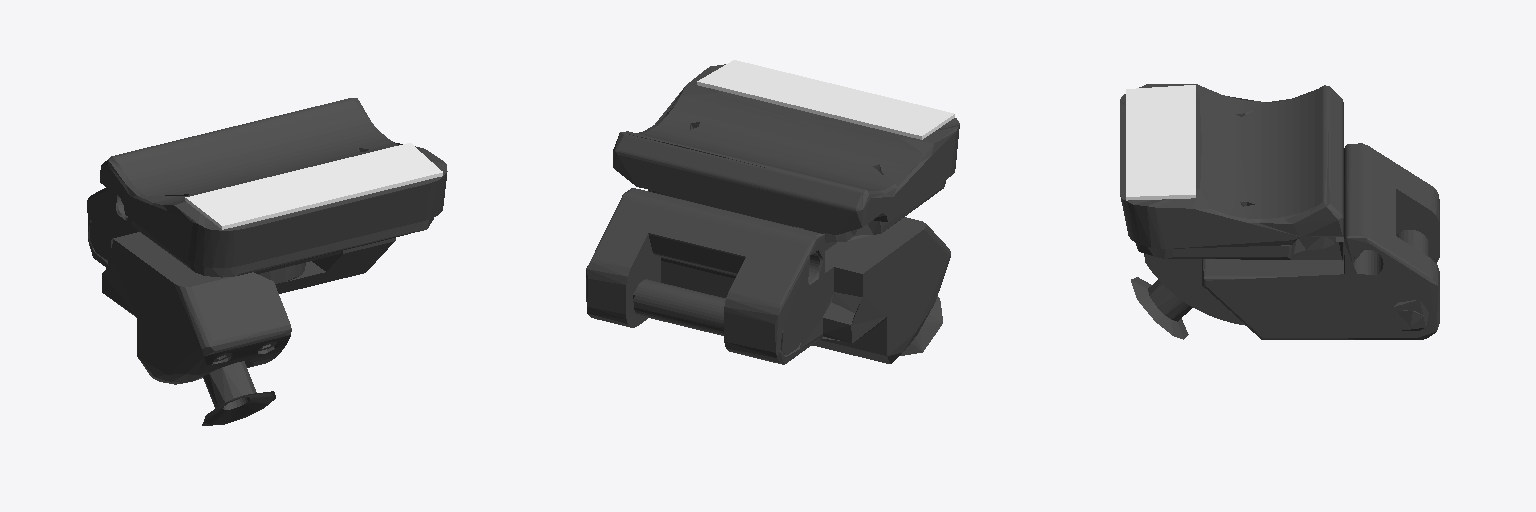
3 renders of one model, left to right at view 1: azimuth 30°, elevation 25°; view 2: azimuth 150°, elevation 25°; view 3: azimuth 270°, elevation 25°, orthographic.
Size of the model in its own units: 0.039 by 0.0346 by 0.0431.
2 materials, 1 textured.